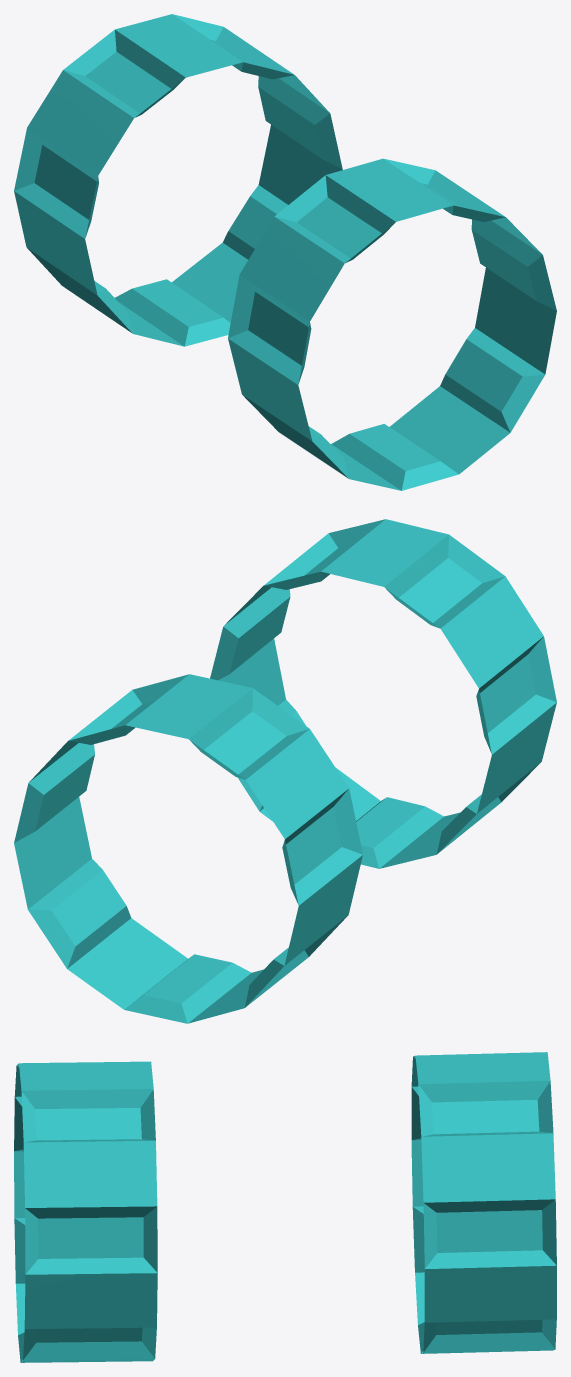
File: 3_7_2_turbina_animacja_2.FBX
3 renders of one model, top to bottom at view 1: azimuth 30°, elevation 25°; view 2: azimuth 150°, elevation 25°; view 3: azimuth 270°, elevation 25°, orthographic. The views are drawn at different scales.
Visible parts, largest first — view 1: turbina_anim2_2, turbina_anim1_2; view 2: turbina_anim1_2, turbina_anim2_2; view 3: turbina_anim2_2, turbina_anim1_2.
Part boxes in pixels (left/top/right/bottom): turbina_anim2_2: left=228, top=158, right=556, bottom=490; turbina_anim1_2: left=14, top=14, right=342, bottom=346; turbina_anim1_2: left=14, top=674, right=362, bottom=1023; turbina_anim2_2: left=210, top=519, right=556, bottom=868; turbina_anim2_2: left=14, top=1061, right=157, bottom=1362; turbina_anim1_2: left=411, top=1052, right=556, bottom=1353.
Size of the model in its own units: 395 by 656 by 364.
